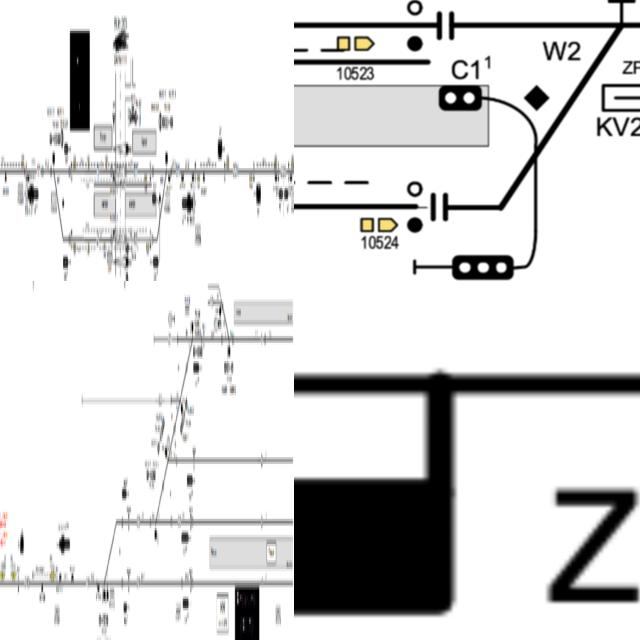mainsignal: (403, 250, 533, 280), (62, 256, 71, 271), (150, 254, 159, 268), (122, 488, 130, 499)
radzaehler: (294, 359, 472, 627), (168, 169, 171, 185), (27, 170, 30, 184), (71, 573, 74, 584), (97, 582, 100, 593), (181, 170, 184, 180), (290, 170, 292, 184), (192, 170, 194, 184), (59, 572, 61, 585), (275, 172, 277, 182)
trackjoint: (428, 187, 460, 230), (430, 11, 464, 44), (120, 574, 124, 592), (191, 511, 194, 531), (264, 331, 267, 350), (191, 574, 194, 592), (185, 360, 188, 376), (120, 515, 124, 527), (151, 232, 154, 246), (170, 514, 173, 528), (180, 576, 183, 590), (125, 166, 128, 179), (175, 455, 178, 468), (172, 423, 175, 436), (200, 334, 203, 347), (162, 478, 164, 496), (41, 167, 44, 178), (68, 167, 71, 178), (221, 335, 224, 346), (68, 232, 70, 246), (110, 234, 112, 248), (126, 232, 128, 246), (152, 166, 154, 179), (232, 335, 234, 346), (50, 168, 52, 177), (110, 166, 112, 175)
tracknumber: (231, 160, 239, 182), (280, 160, 287, 180), (136, 506, 140, 536), (23, 575, 30, 591), (96, 160, 100, 180), (167, 330, 172, 346), (96, 227, 99, 251), (36, 162, 40, 179), (176, 162, 180, 179), (134, 231, 138, 247), (177, 513, 181, 529), (260, 577, 264, 593), (210, 296, 214, 312), (134, 163, 138, 178), (136, 576, 140, 590), (260, 512, 263, 530), (86, 572, 89, 588), (158, 394, 162, 406), (261, 450, 263, 469), (260, 332, 262, 344)
weiche: (600, 0, 637, 31), (153, 515, 159, 545), (163, 444, 169, 470), (227, 330, 231, 360), (102, 575, 106, 604), (178, 393, 183, 416), (105, 572, 108, 607), (165, 150, 168, 172), (219, 300, 223, 316), (190, 321, 193, 342), (52, 152, 55, 172)
